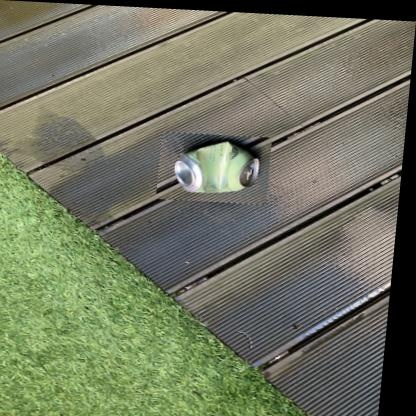trash: (175, 141, 259, 191)
